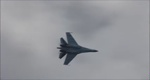maybay_muctieu: (57, 32, 100, 67)
